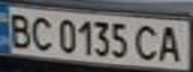0: (54, 16, 78, 54)
1: (75, 17, 93, 56)
3: (90, 18, 112, 58)
5: (109, 19, 133, 60)
A: (154, 22, 187, 63)
B: (3, 10, 36, 49)
C: (133, 21, 163, 62), (27, 14, 57, 52)
